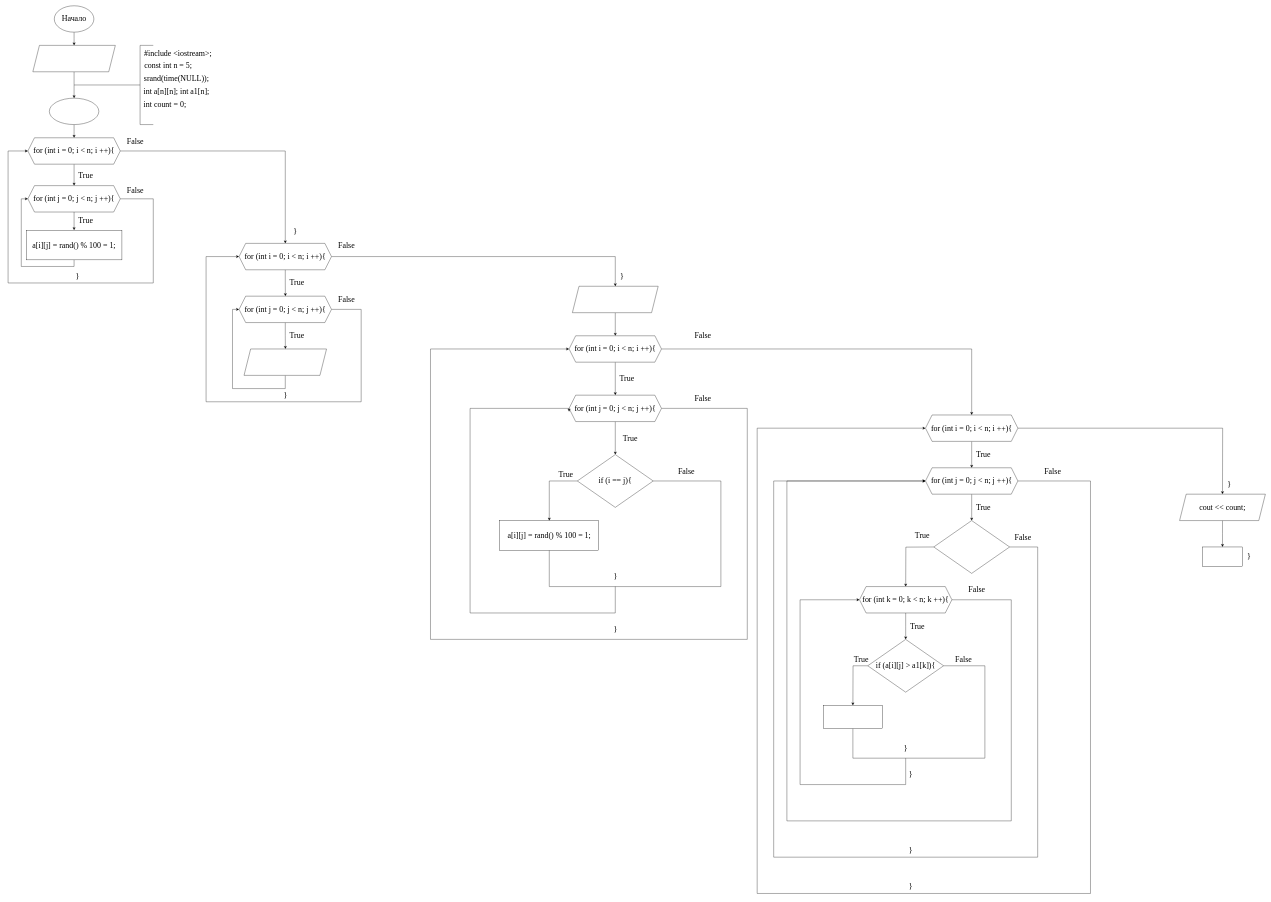
The diagram is 1271 pixels wide and 902 high, and some of its shapes have lost their labels. Here are the shapes that lost their labels. From the top down, the centre of each, then its label:
(74,58): using namespace std;
(74,111): int main(){
(615,299): cout << endl;
(285,362): cout << a[i][j] << " ";
(971,546): if (i != j){
(1222,557): return 0;
(853,716): count ++;
